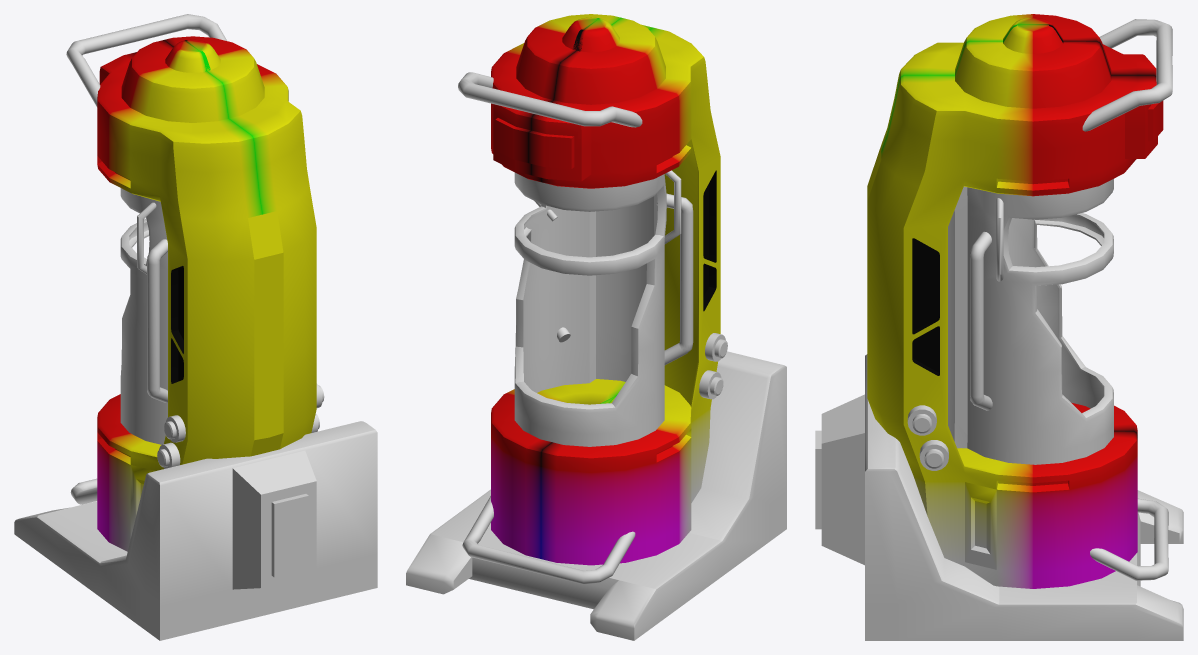
File: battery.fbx
3 renders of one model, left to right at view 1: azimuth 30°, elevation 25°; view 2: azimuth 150°, elevation 25°; view 3: azimuth 270°, elevation 25°, orthographic. The views are drawn at different scales.
Visible parts, largest first — view 1: Cylinder006; view 2: Cylinder006; view 3: Cylinder006.
Part boxes in pixels (bbox=[...]): Cylinder006: bbox=[14, 14, 377, 640]; Cylinder006: bbox=[406, 14, 786, 640]; Cylinder006: bbox=[815, 14, 1183, 640].
Bounding box in the file's own units: 143 × 320 × 191.
